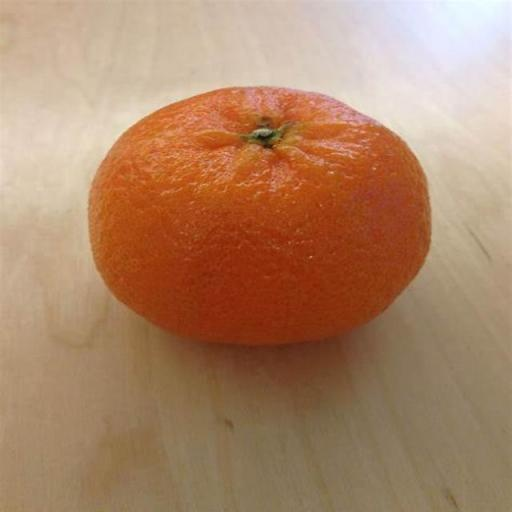fruit: (90, 88, 430, 343)
